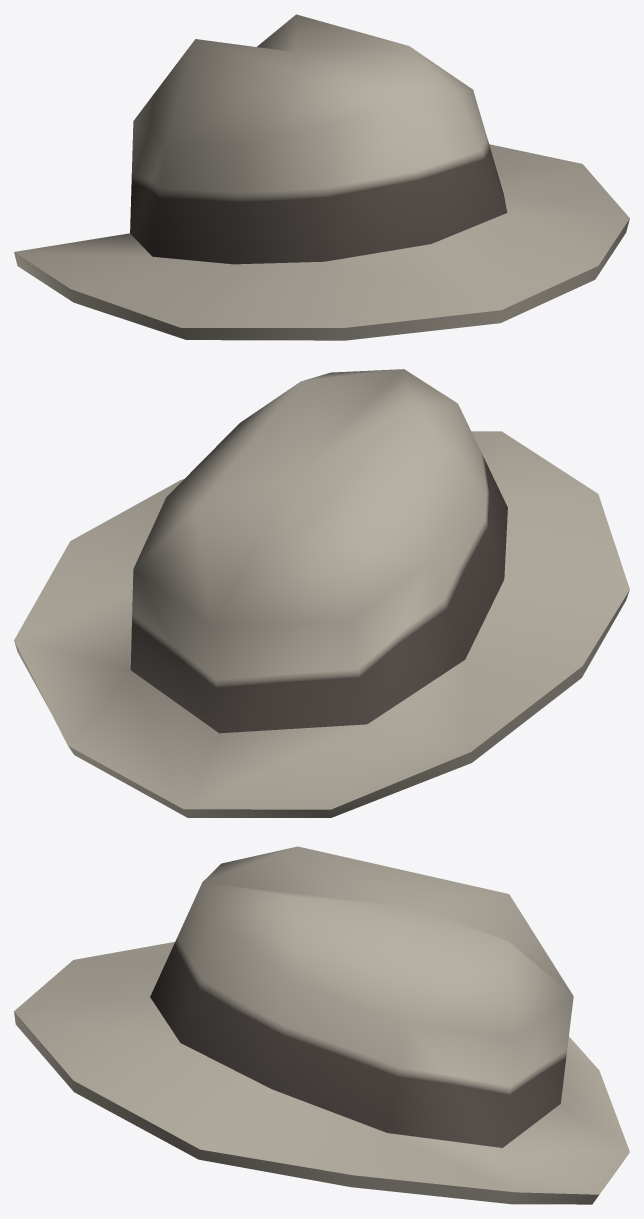
File: hat_fedora.fbx
3 views of the same model, one above another, from view 1: azimuth 30°, elevation 25°; view 2: azimuth 150°, elevation 25°; view 3: azimuth 270°, elevation 25° (orthographic). The views are drawn at different scales.
Parts seen in each view (by area): view 1: hat_fedora; view 2: hat_fedora; view 3: hat_fedora.
Boxes of the visible parts, <box> form: hat_fedora: <box>14,14,629,340</box>; hat_fedora: <box>14,369,629,817</box>; hat_fedora: <box>14,846,629,1204</box>.
Bounding box in the file's own units: 1.14 × 0.6386 × 1.22.
